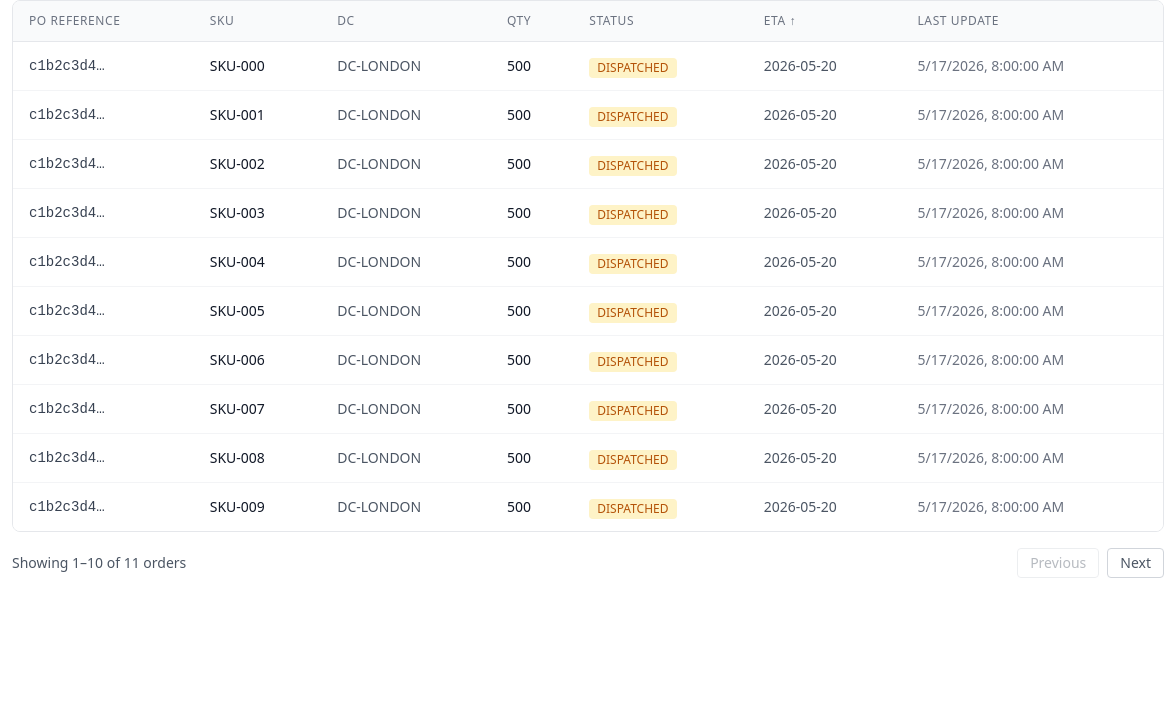
Scenario: OrderListTab › pagination › Next button is disabled on last page
Click the button "Next" at coordinates (1136, 563), box [1107,548,1164,578]
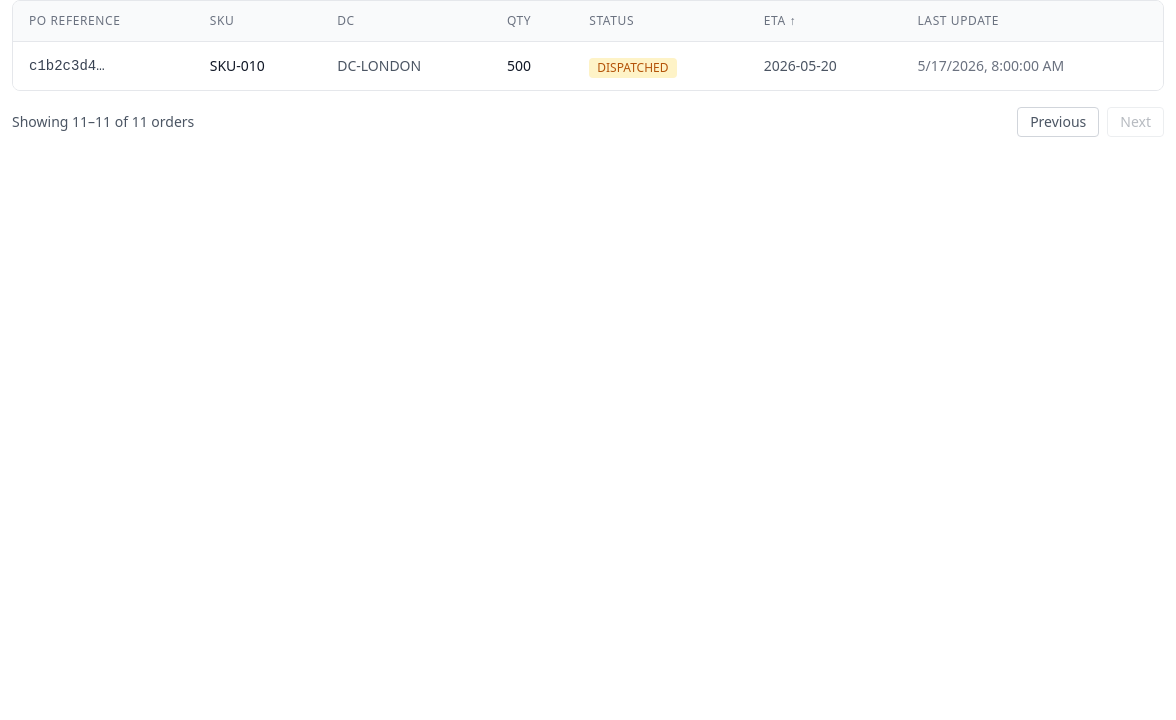
Check: the button "Next" is disabled, box [1107,107,1164,137]
